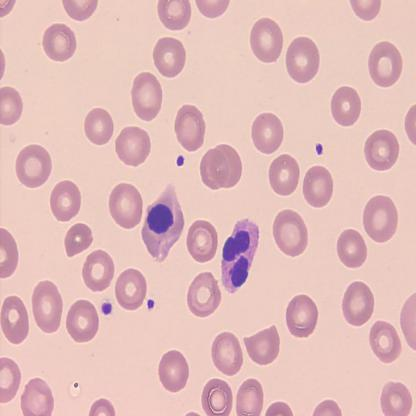NRC: (146, 201, 176, 239)
